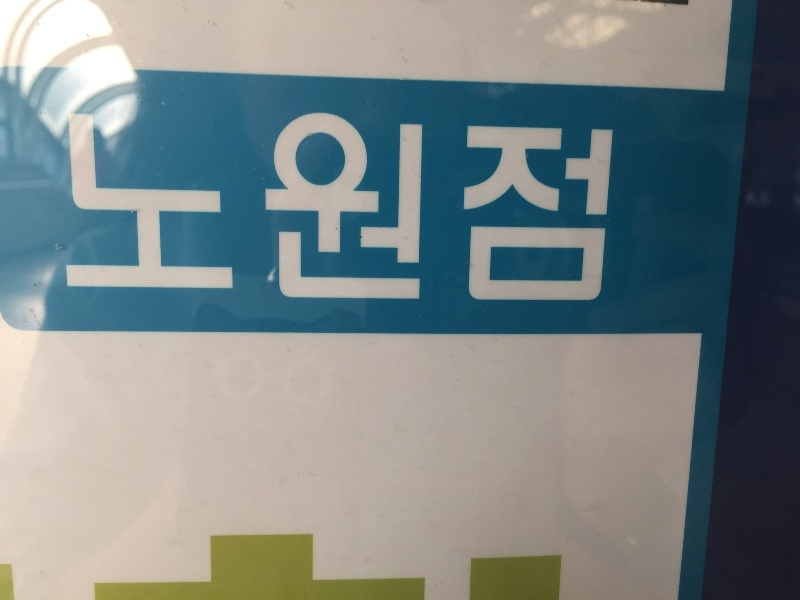text: (65, 106, 80, 314), (81, 106, 96, 314), (97, 106, 112, 314), (113, 106, 128, 314), (129, 106, 144, 314), (145, 106, 160, 314), (161, 106, 176, 314), (177, 106, 192, 314), (193, 106, 208, 314), (209, 106, 224, 314), (225, 106, 240, 314), (241, 106, 256, 314), (257, 106, 272, 314), (273, 106, 288, 314), (289, 106, 304, 314), (305, 106, 320, 314), (321, 106, 336, 314), (337, 106, 352, 314), (353, 106, 368, 314), (369, 106, 384, 314), (385, 106, 400, 314), (401, 106, 416, 314), (417, 106, 432, 314), (433, 106, 448, 314), (449, 106, 464, 314), (465, 106, 480, 314), (481, 106, 496, 314), (497, 106, 512, 314), (513, 106, 528, 314), (529, 106, 544, 314), (545, 106, 560, 314), (561, 106, 576, 314), (577, 106, 592, 314), (593, 106, 608, 314), (609, 106, 617, 314)
